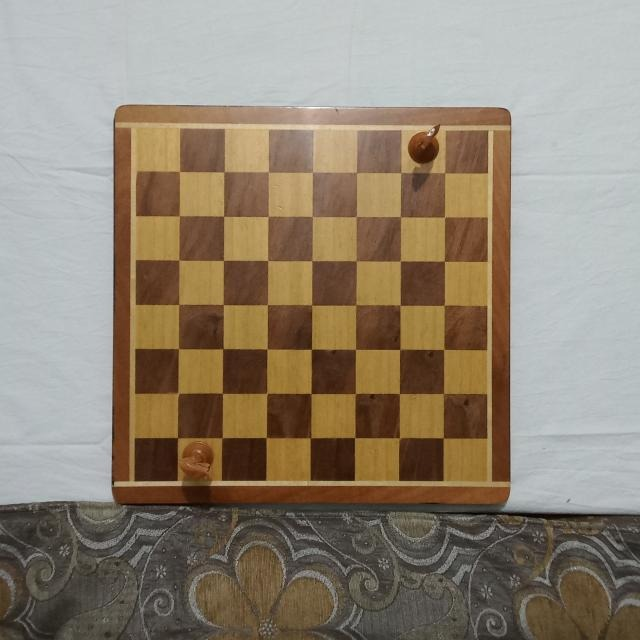white-knight: (408, 123, 446, 167), (178, 442, 214, 482)
